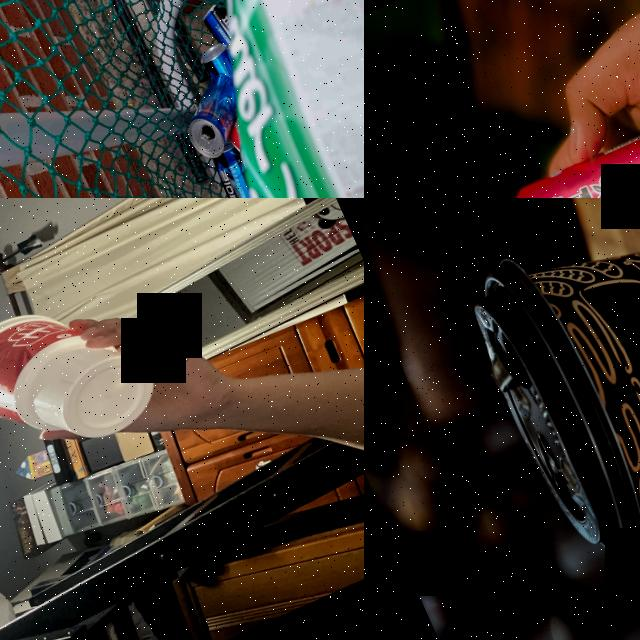can: (481, 104, 640, 198)
cup: (447, 198, 640, 580), (0, 272, 170, 487)
